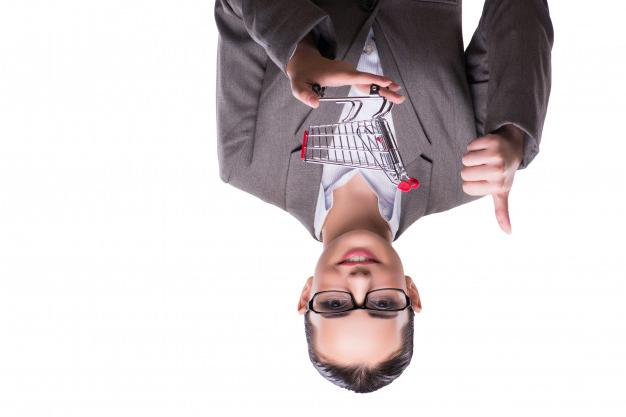thumbsdown: (460, 133, 514, 235)
